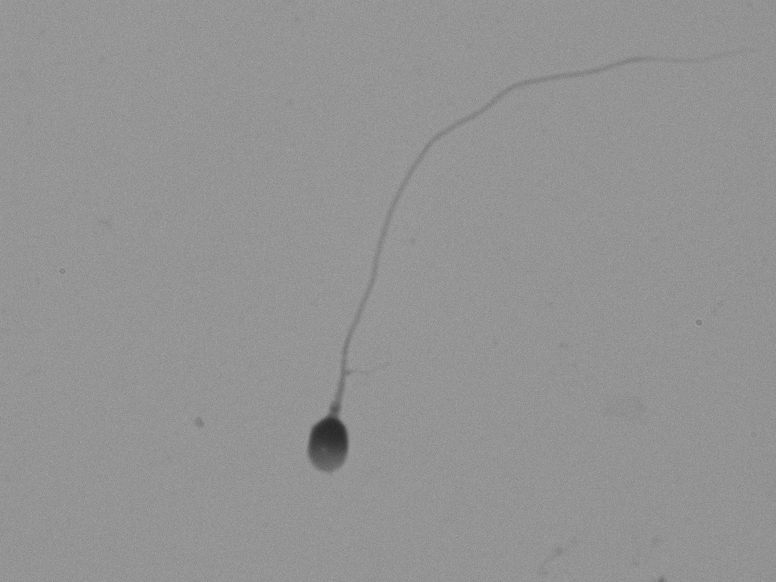Normal: (208, 65, 681, 481)
